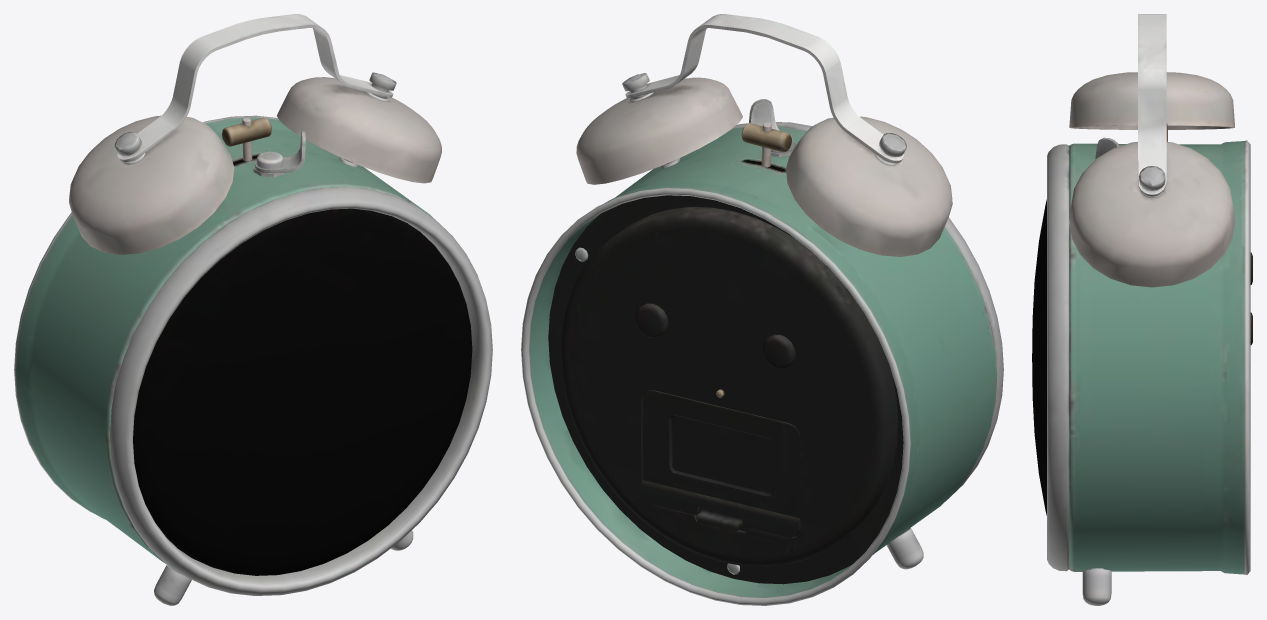
Rendered from alarm_clock_01.95ede580.glb.
3 views of the same model, side by side, from view 1: azimuth 30°, elevation 25°; view 2: azimuth 150°, elevation 25°; view 3: azimuth 270°, elevation 25° (orthographic). The views are drawn at different scales.
Visible parts, largest first — view 1: alarm_clock_01; view 2: alarm_clock_01; view 3: alarm_clock_01.
Part boxes in pixels (<box>): alarm_clock_01: <box>14,14,492,605</box>; alarm_clock_01: <box>521,14,1003,605</box>; alarm_clock_01: <box>1032,14,1252,605</box>.
Size of the model in its own units: 0.756 by 1 by 0.3832.
Materials: 2 (2 with a texture image).
